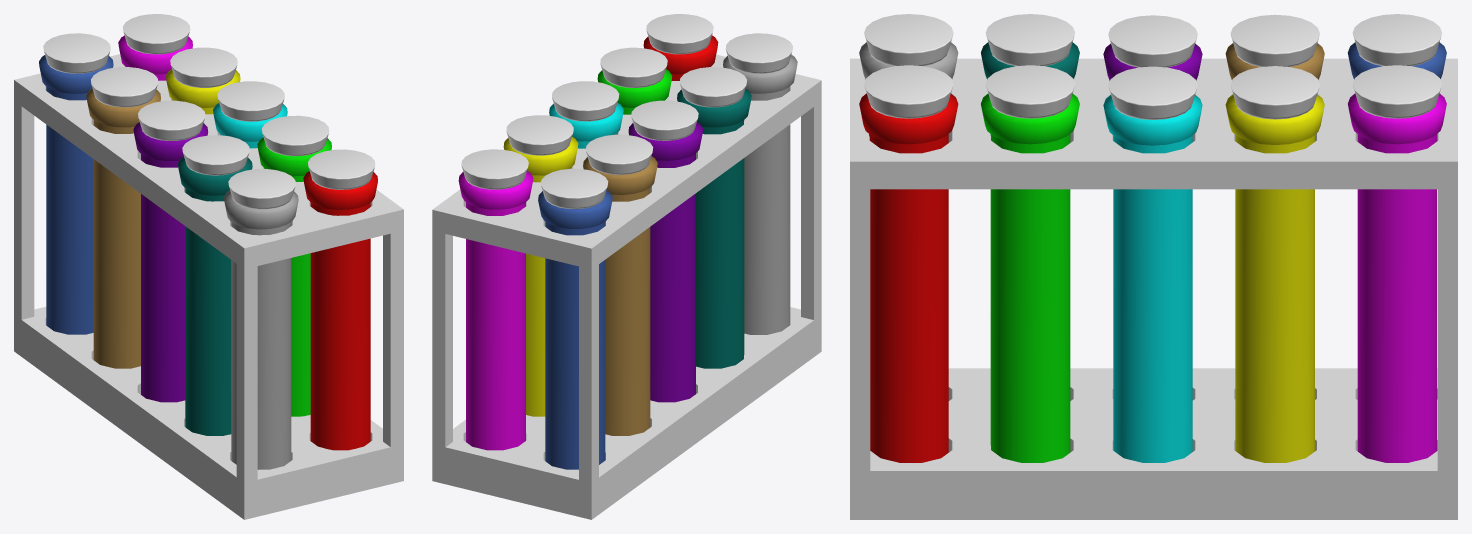
Rendered from Support_Eprouvette_test_opacity_v2.fbx.
The picture shows the model from 3 angles, left to right: view 1: azimuth 30°, elevation 25°; view 2: azimuth 150°, elevation 25°; view 3: azimuth 270°, elevation 25°; orthographic projection. The views are drawn at different scales.
Visible parts, largest first — view 1: Support_eprouvette:Support_eprouvette; view 2: Support_eprouvette:Support_eprouvette; view 3: Support_eprouvette:Support_eprouvette.
Boxes of the visible parts, x1,y1,x2,y2 form: Support_eprouvette:Support_eprouvette: (14, 14, 403, 519); Support_eprouvette:Support_eprouvette: (432, 14, 821, 519); Support_eprouvette:Support_eprouvette: (850, 14, 1457, 519).
Bounding box in the file's own units: 14.5 × 26.99 × 36.25.
